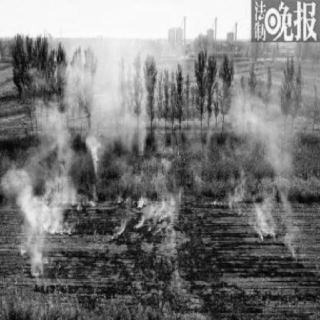Smoke: (74, 62, 158, 152)
